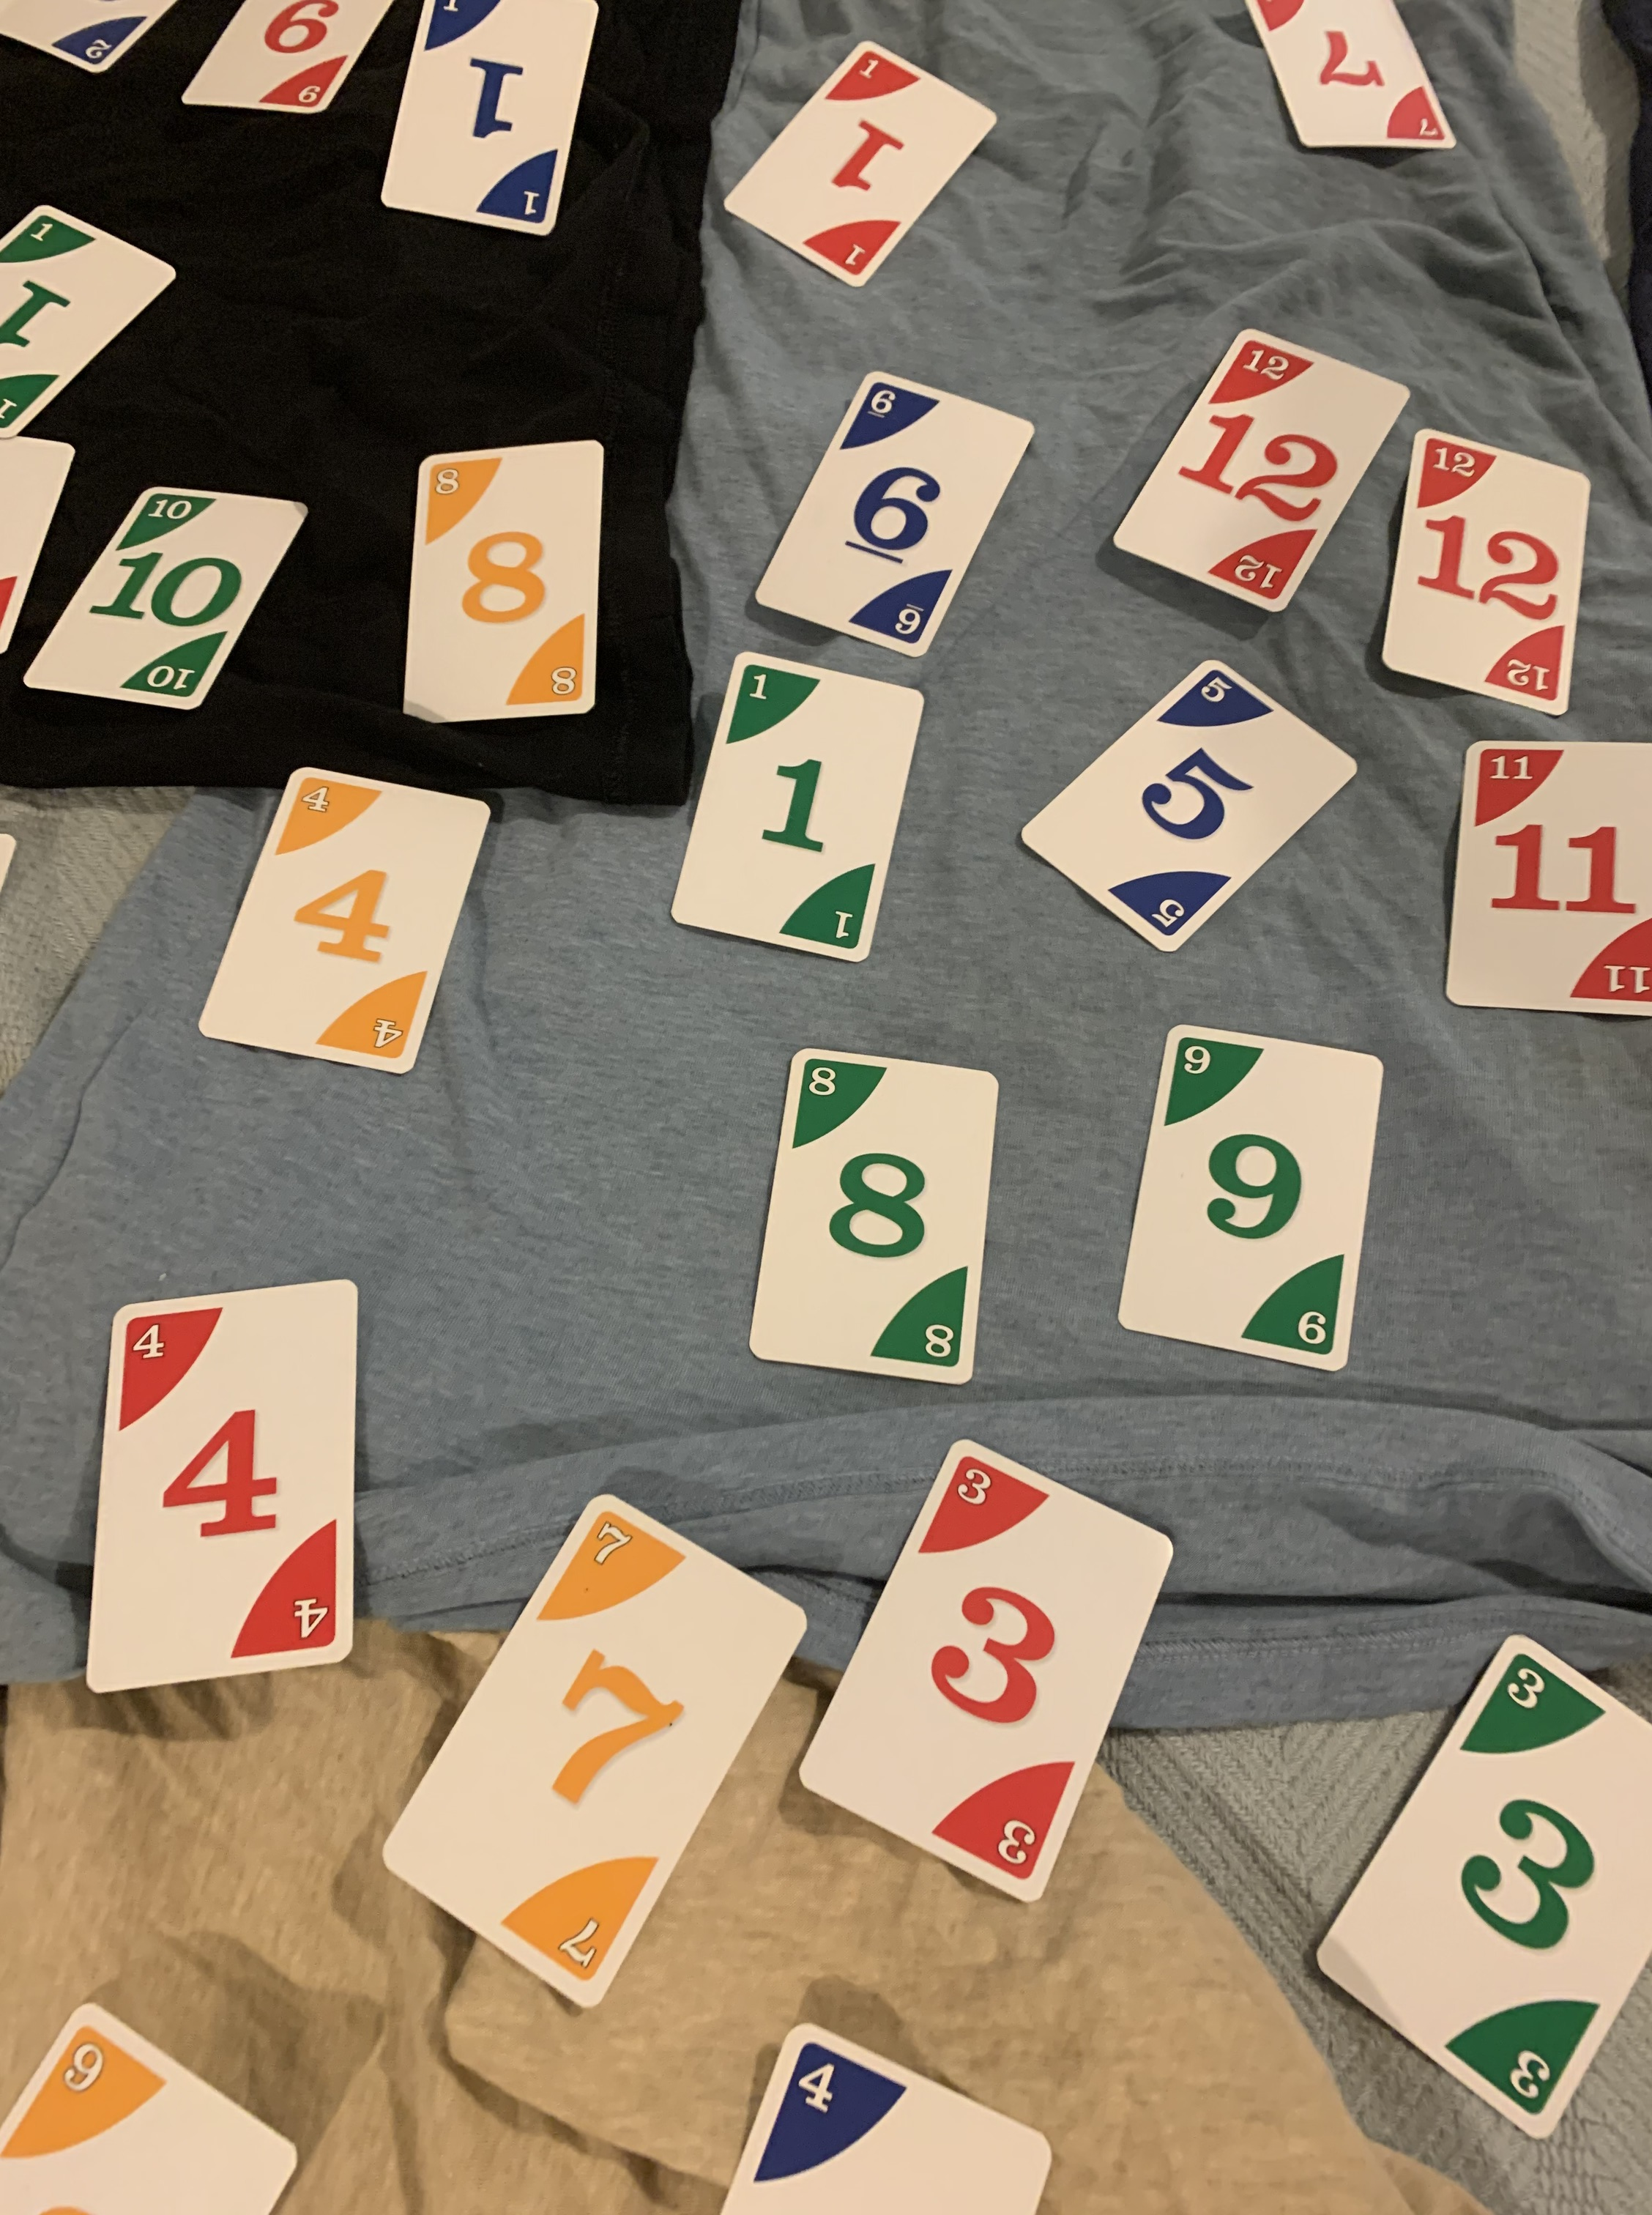eight: (737, 1033, 1010, 1380), (389, 436, 619, 743)
eleven: (1426, 713, 1652, 1038)
five: (1017, 667, 1374, 965)
four: (78, 1255, 378, 1699), (179, 755, 515, 1095)
one: (647, 641, 930, 972), (720, 35, 1019, 297), (371, 0, 625, 253)
seven: (370, 1477, 816, 2028)
ten: (24, 457, 323, 717)
three: (803, 1427, 1199, 1909), (1321, 1620, 1652, 2149)
twelve: (1111, 321, 1421, 621), (1373, 408, 1595, 738)
